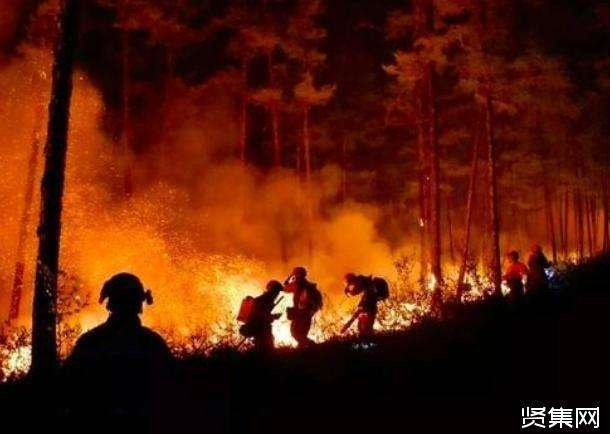fire: (226, 288, 306, 349)
